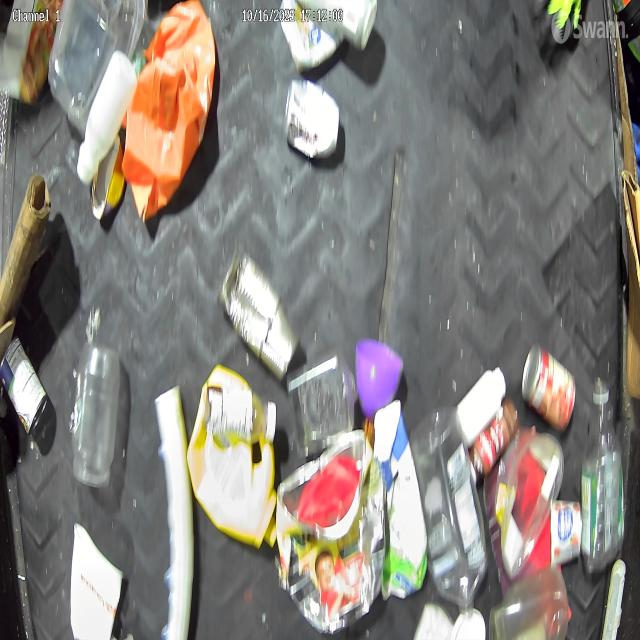can: (221, 246, 301, 383), (522, 341, 576, 427), (284, 83, 338, 162)
non_white_jug: (132, 2, 216, 222), (186, 366, 274, 534)
plastic_bottle: (410, 402, 488, 616), (586, 369, 622, 553)
